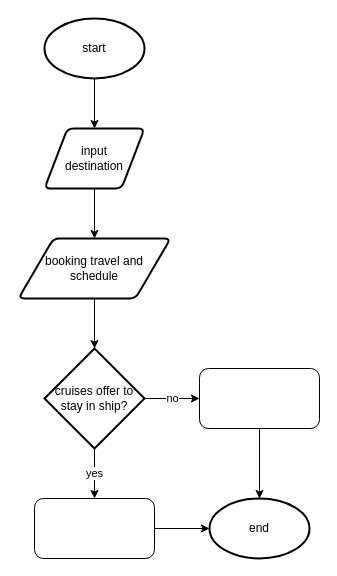
Image size: 337x576. Some labels were removed from this diagram. The box of each missing label's shape, as (x1, y1, x2, y2) in pixels:
debark to the nearest town from the port: (198, 368, 320, 428)
stay in ship: (34, 498, 154, 558)
